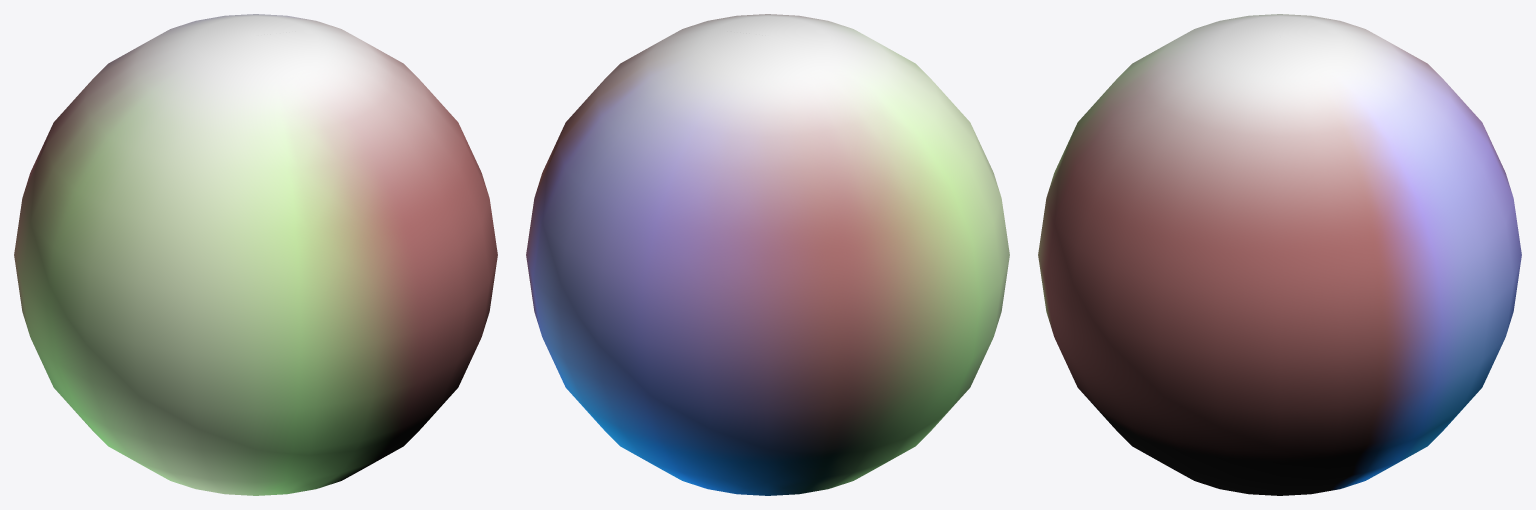
The model's file is seneca_0001.fbx.
3 views of the same model, side by side, from view 1: azimuth 30°, elevation 25°; view 2: azimuth 150°, elevation 25°; view 3: azimuth 270°, elevation 25° (orthographic).
Parts seen in each view (by area): view 1: Sphere_1; view 2: Sphere_1; view 3: Sphere_1.
Part boxes in pixels (<box>): Sphere_1: <box>14,14,497,495</box>; Sphere_1: <box>526,14,1009,495</box>; Sphere_1: <box>1038,14,1521,495</box>.
Bounding box in the file's own units: 829 × 829 × 829.
